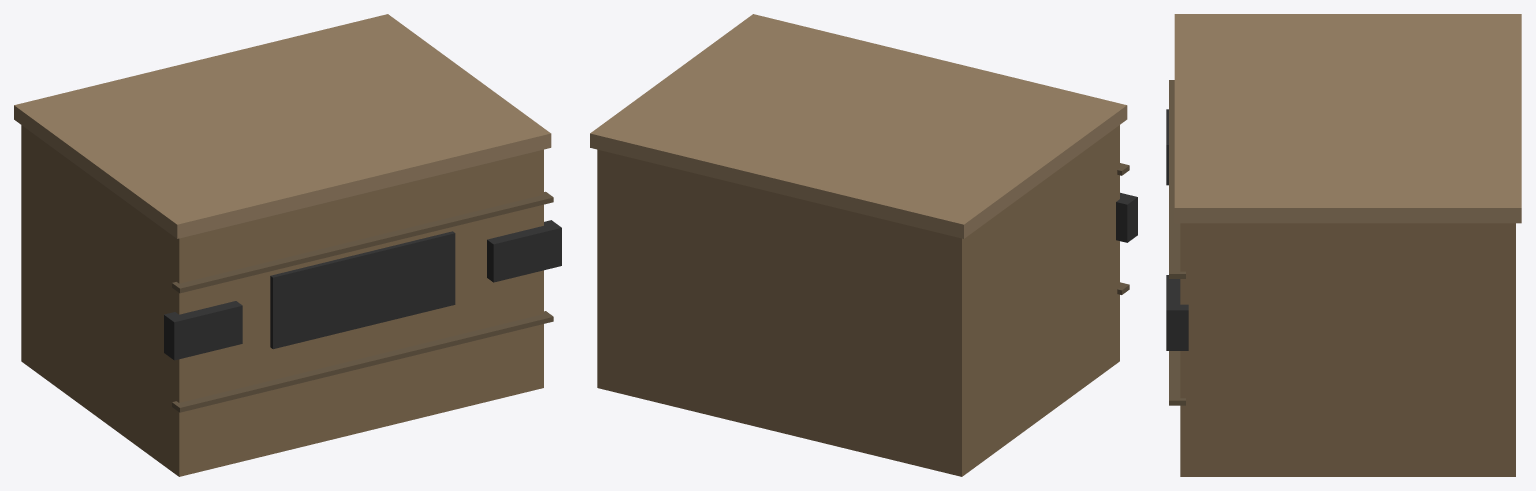
The model's file is supply-crate.glb.
3 views of the same model, side by side, from view 1: azimuth 30°, elevation 25°; view 2: azimuth 150°, elevation 25°; view 3: azimuth 270°, elevation 25° (orthographic). The views are drawn at different scales.
Parts seen in each view (by area): view 1: Mesh_CrateBody, Mesh_Lid, Mesh_Stencil, Mesh_PlankUpper, Mesh_PlankLower, Mesh_HandleLeft, Mesh_HandleRight; view 2: Mesh_CrateBody, Mesh_Lid, Mesh_HandleLeft; view 3: Mesh_CrateBody, Mesh_Lid, Mesh_PlankUpper, Mesh_HandleRight, Mesh_PlankLower.
Boxes of the visible parts, x1,y1,x2,y2 form: Mesh_CrateBody: (21,125,543,476); Mesh_Lid: (14,14,551,238); Mesh_Stencil: (270,231,455,349); Mesh_PlankUpper: (172,191,553,293); Mesh_PlankLower: (172,311,553,412); Mesh_HandleLeft: (164,301,242,360); Mesh_HandleRight: (487,220,561,282); Mesh_CrateBody: (597,125,1119,476); Mesh_Lid: (590,14,1127,238); Mesh_HandleLeft: (1116,192,1137,242); Mesh_CrateBody: (1180,223,1515,476); Mesh_Lid: (1174,14,1521,223); Mesh_PlankUpper: (1169,80,1185,278); Mesh_HandleRight: (1166,275,1188,350); Mesh_PlankLower: (1169,351,1185,405).
Bounding box in the file's own units: 0.85 × 0.535 × 0.635.
